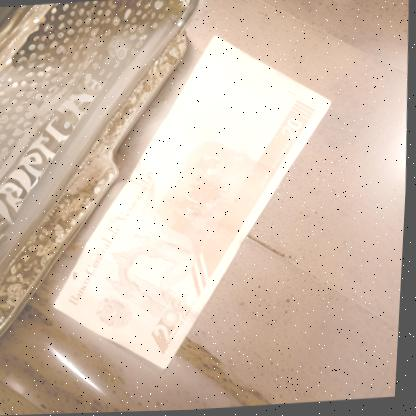twenty-back-vef: (44, 29, 343, 378)
